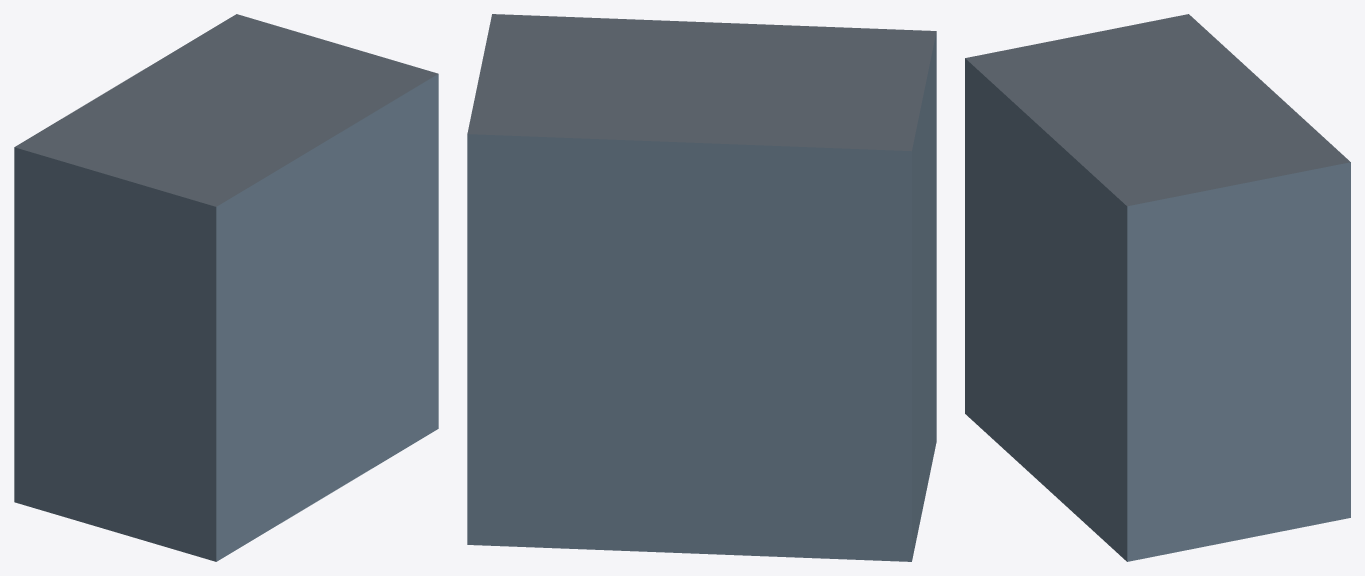
3 renders of one model, left to right at view 1: azimuth 30°, elevation 25°; view 2: azimuth 150°, elevation 25°; view 3: azimuth 270°, elevation 25°, orthographic. The views are drawn at different scales.
Parts seen in each view (by area): view 1: HP-w137191549; view 2: HP-w137191549; view 3: HP-w137191549.
Part boxes in pixels (box(x1,y1,x2,y2)): HP-w137191549: box(14, 14, 438, 561); HP-w137191549: box(467, 14, 936, 561); HP-w137191549: box(965, 14, 1350, 561).
Bounding box in the file's own units: 88.17 × 76 × 74.74.
